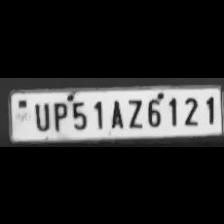1: (201, 94, 219, 124), (90, 97, 106, 129), (163, 94, 179, 126)
2: (180, 94, 200, 126)
5: (68, 96, 88, 130)
6: (144, 95, 162, 127)
A: (106, 96, 124, 128)
P: (48, 97, 68, 130)
U: (30, 97, 52, 130)
Z: (124, 94, 142, 128)
